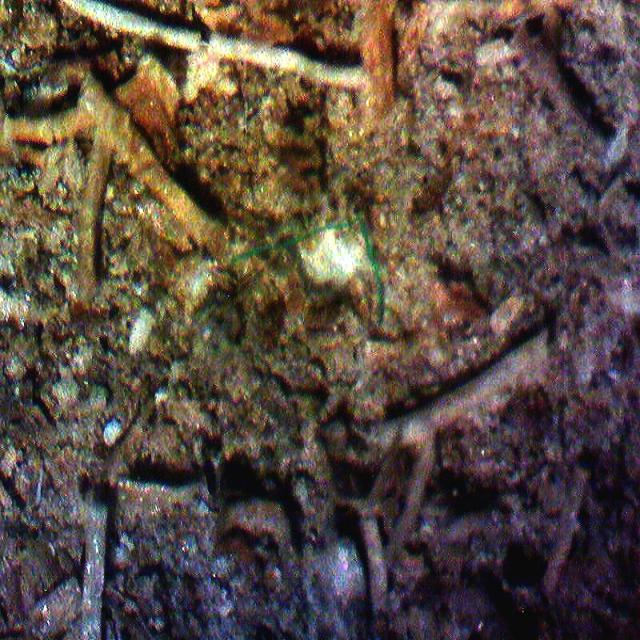microplastic: (232, 213, 385, 325)
